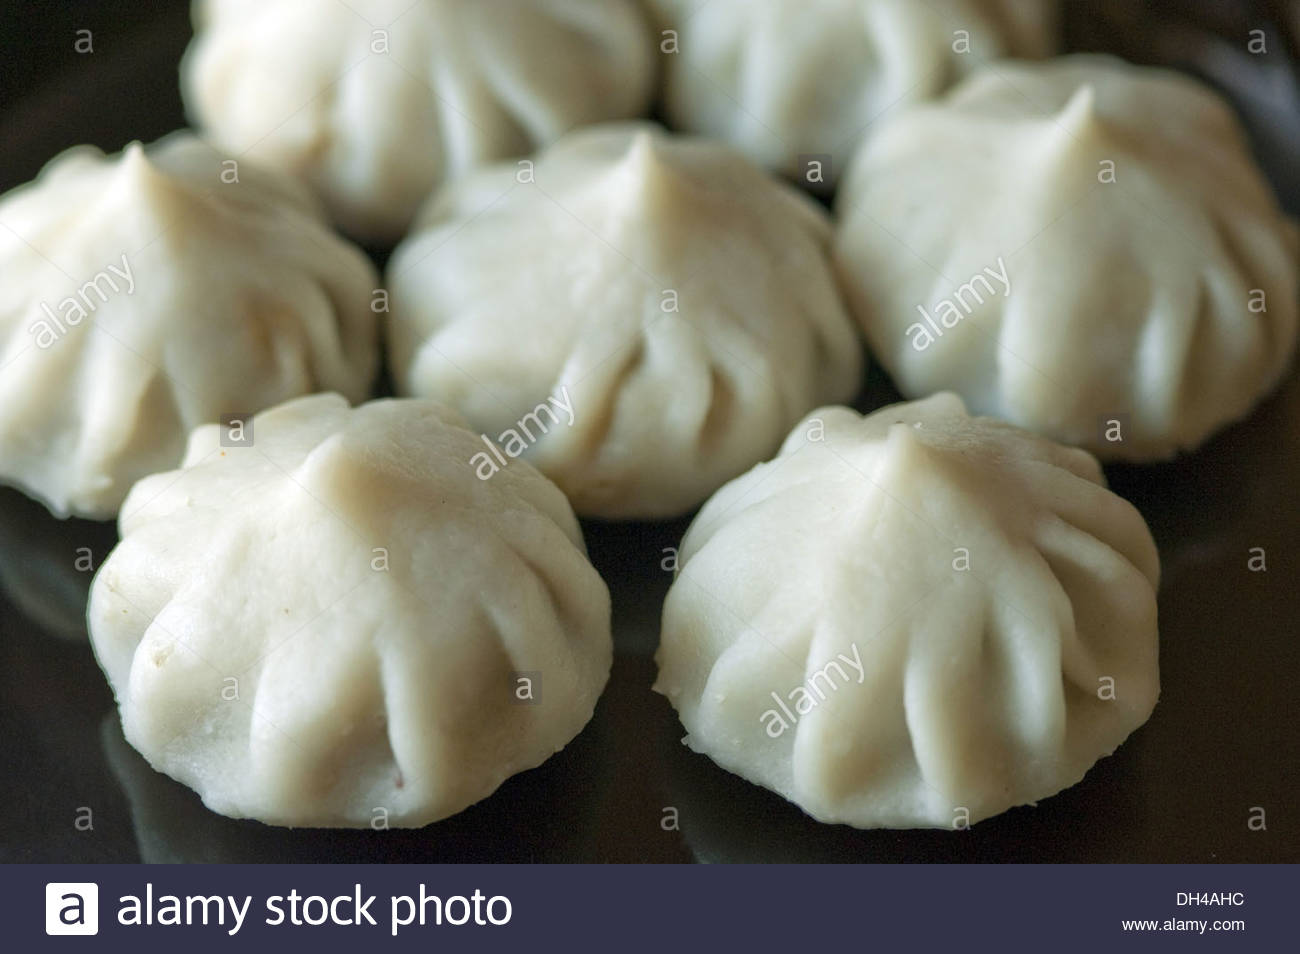modak: (73, 390, 617, 806), (679, 394, 1175, 809), (821, 48, 1300, 429), (7, 133, 453, 522), (400, 112, 879, 466)
